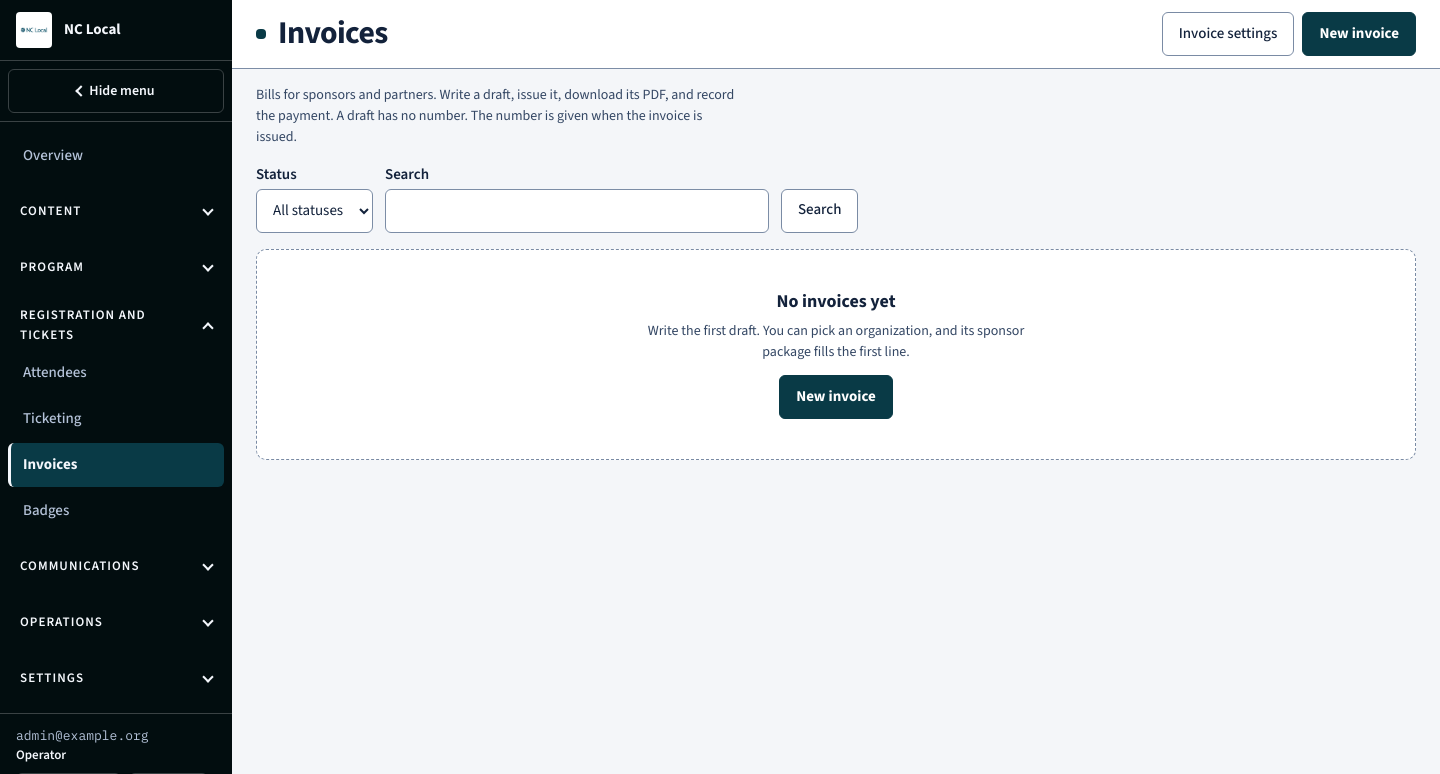
Test: the invoice list › filters by status and searches on the server
Expected: the heading "No invoices yet" is shown, x1=776 y1=290 x2=896 y2=313
Select "Paid" in the dropdown labelled "Status": (314, 210) x1=256 y1=188 x2=373 y2=232
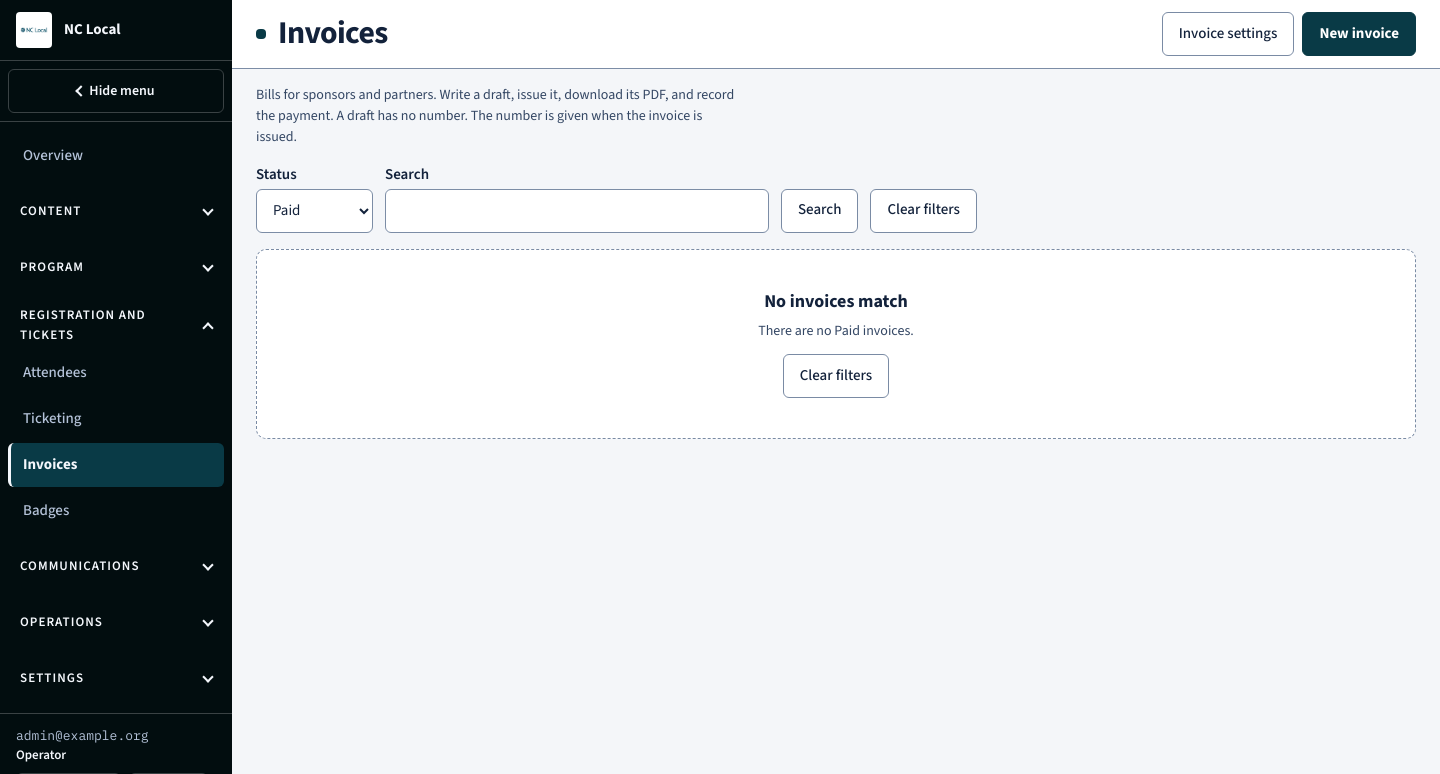
In the search field labelled "Search": (577, 210) x1=385 y1=188 x2=769 y2=232, type "press"
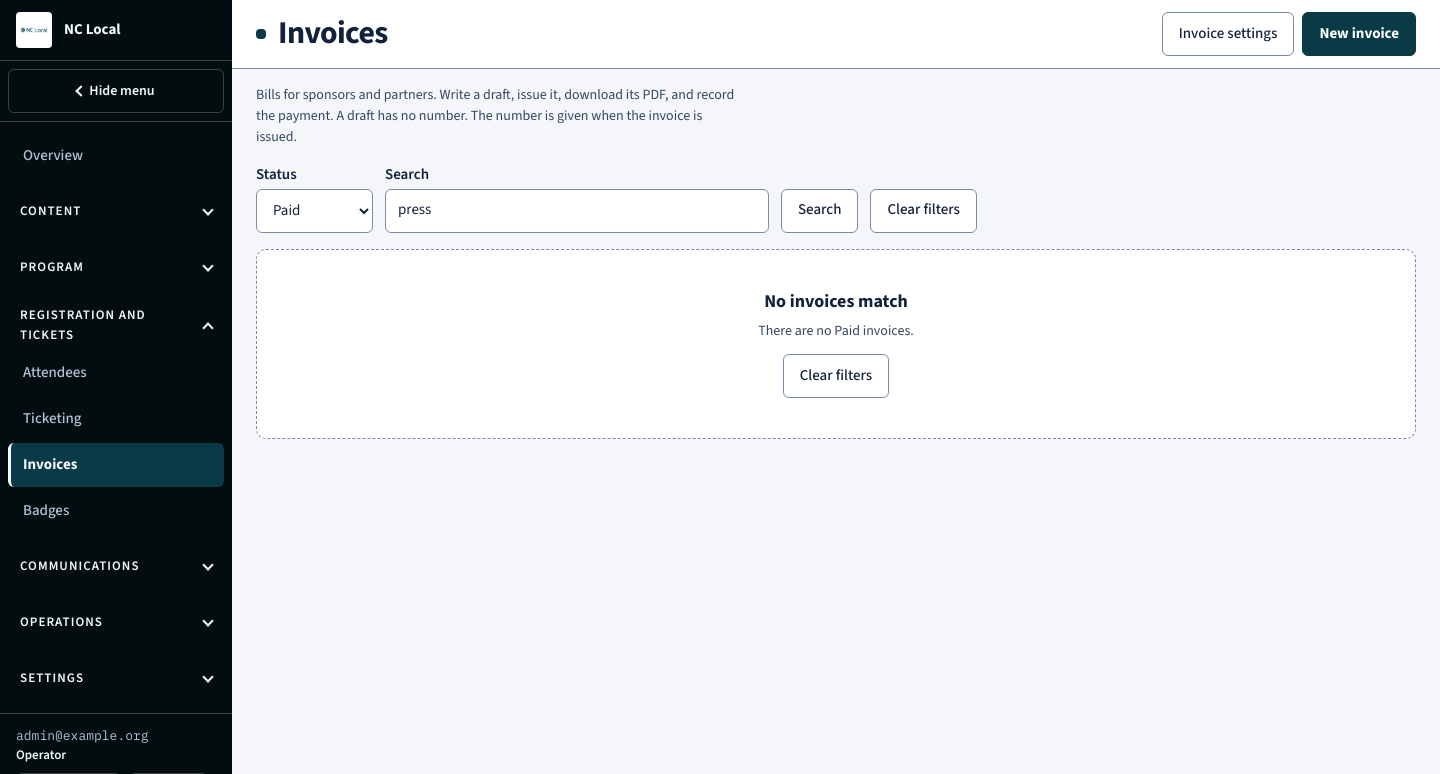
Click the button "Search": (820, 210) x1=781 y1=188 x2=858 y2=232
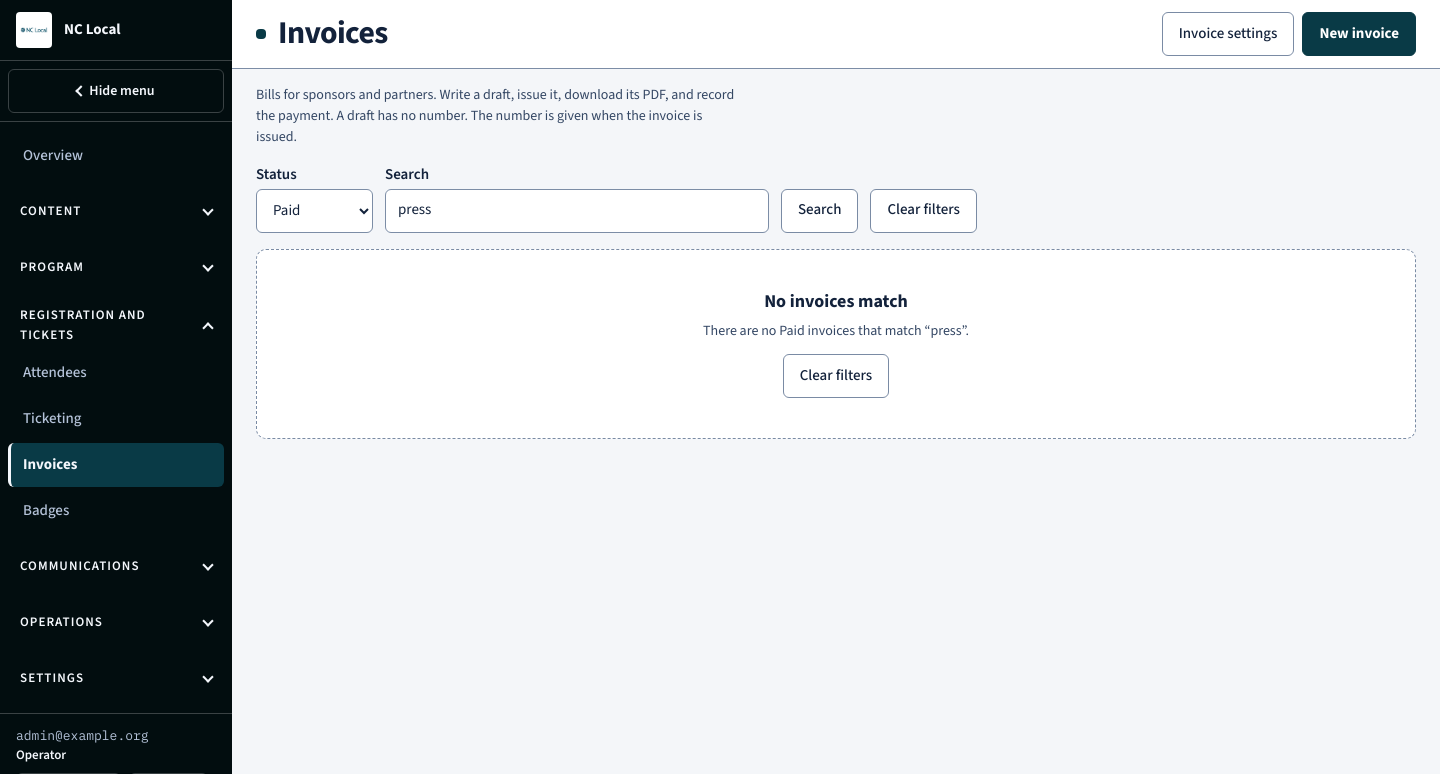
Now the text "There are no Paid invoices that match “press”." is shown, box x1=703 y1=321 x2=969 y2=342
